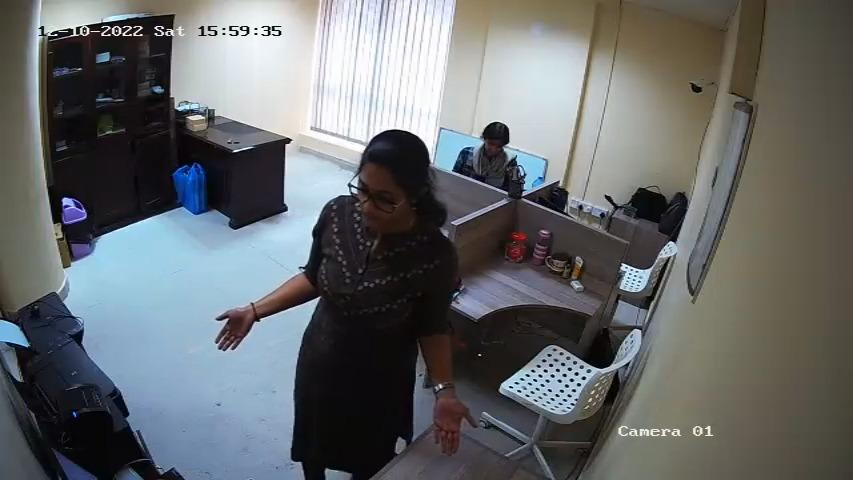no_gloves: (431, 401, 475, 462), (211, 308, 255, 355)
